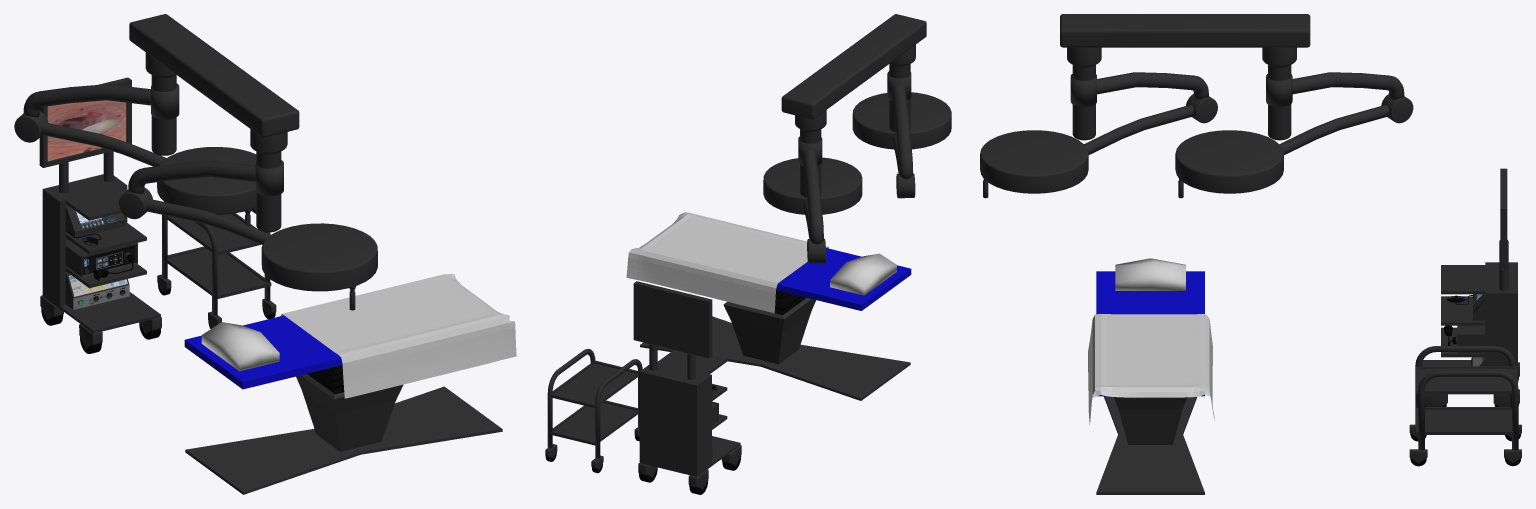
File: Op-Saal.obj
3 renders of one model, left to right at view 1: azimuth 30°, elevation 25°; view 2: azimuth 150°, elevation 25°; view 3: azimuth 270°, elevation 25°, orthographic. The views are drawn at different scales.
Parts seen in each view (by area): view 1: Obj_OP_Bett, Obj_Oplicht, Obj_Computer, Obj_Schiebewagen; view 2: Obj_OP_Bett, Obj_Oplicht, Obj_Computer, Obj_Schiebewagen; view 3: Obj_Oplicht, Obj_OP_Bett, Obj_Computer, Obj_Schiebewagen.
Boxes of the visible parts, <box> form: Obj_OP_Bett: <box>184,274,516,494</box>; Obj_Oplicht: <box>14,14,377,310</box>; Obj_Computer: <box>39,77,161,353</box>; Obj_Schiebewagen: <box>157,207,276,328</box>; Obj_OP_Bett: <box>626,212,911,400</box>; Obj_Oplicht: <box>763,14,951,263</box>; Obj_Computer: <box>633,281,741,494</box>; Obj_Schiebewagen: <box>545,348,642,473</box>; Obj_Oplicht: <box>980,14,1413,198</box>; Obj_OP_Bett: <box>1088,258,1215,494</box>; Obj_Computer: <box>1422,168,1519,406</box>; Obj_Schiebewagen: <box>1409,346,1521,466</box>.
Size of the model in its own units: 6.64 by 7.39 by 9.98.
